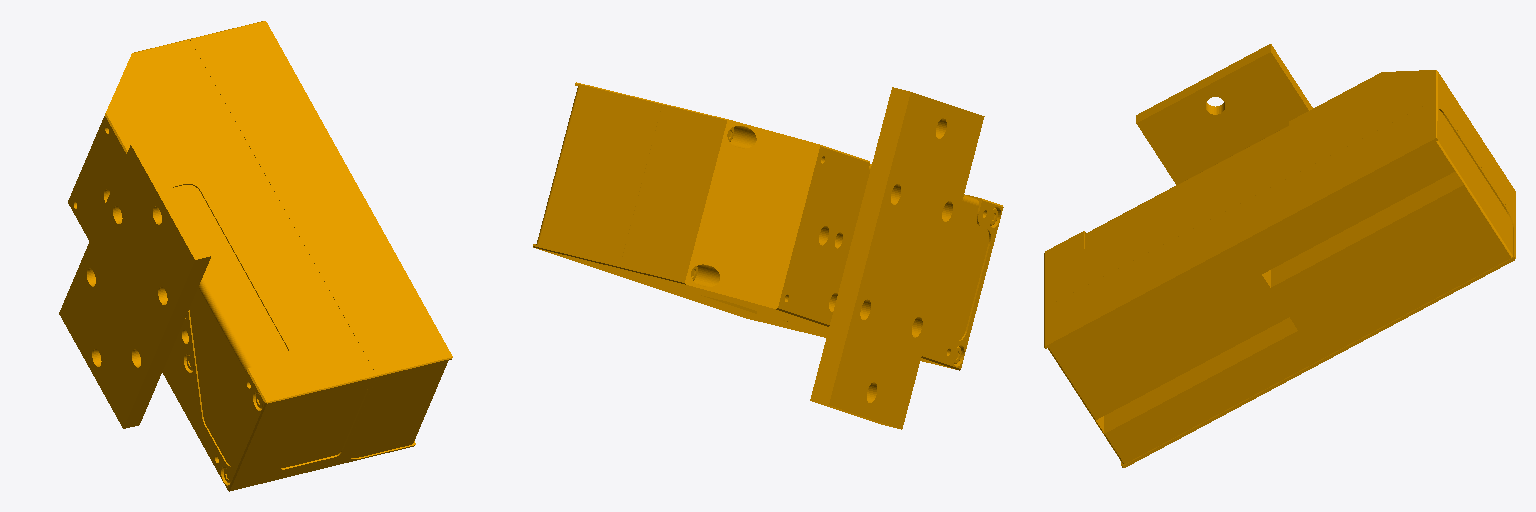
URDF robot description (IRB140):
<?xml version="1.0" ?>
<!-- =================================================================================== -->
<!-- |    This document was autogenerated by xacro from irb_140_ati_schunk_gelsight_less_collision.urdf.xacro | -->
<!-- |    EDITING THIS FILE BY HAND IS NOT RECOMMENDED                                 | -->
<!-- =================================================================================== -->
<robot name="IRB140" xmlns:xacro="http://www.ros.org/wiki/xacro">
  <link name="base_link">
    <inertial>
      <origin rpy="-1.57079 0 0" xyz="-0.0820393251688425 -0.0599247343482246 0.000402028640224033"/>
      <mass value="12.409016159487"/>
      <inertia ixx="0.104502176006253" ixy="0.00734284655670482" ixz="1.00520827530156E-05" iyy="0.246486764065977" iyz="0.000843006810157312" izz="0.16727784258504"/>
    </inertial>
    <visual>
      <origin rpy="-1.57079 0 0" xyz="0 0 0"/>
      <geometry>
        <mesh filename="package://IRB140/urdf/meshes/base_link.stl"/>
      </geometry>
      <material name="">
        <color rgba="0.890196078431373 0.411764705882353 0.125490196078431 1"/>
      </material>
    </visual>
    <collision>
      <origin rpy="-1.57079 0 0" xyz="0 0 0"/>
      <geometry>
        <mesh filename="package://IRB140/urdf/meshes/base_link_chull.stl"/>
      </geometry>
    </collision>
  </link>
  <collision_filter_group name="base">
    <member link="base_link"/>
  </collision_filter_group>
  <collision_filter_group name="ignore_base">
    <member link="link_1"/>
  </collision_filter_group>
  <link name="link_1">
    <inertial>
      <origin rpy="0 0 0" xyz="0.0281052735195531 -0.263404021764231 0.0438145912936454"/>
      <mass value="16.287755696602"/>
      <inertia ixx="0.239763088891016" ixy="-0.0247090810274521" ixz="0.000698689923332581" iyy="0.215279593840589" iyz="-0.0324602456686847" izz="0.21738294278782"/>
    </inertial>
    <visual>
      <origin rpy="0 0 0" xyz="0 0.1095 0"/>
      <geometry>
        <mesh filename="package://IRB140/urdf/meshes/link1.stl"/>
      </geometry>
      <material name="">
        <color rgba="0.890196078431373 0.411764705882353 0.125490196078431 1"/>
      </material>
    </visual>
    <collision>
      <origin rpy="0 0 0" xyz="0 0.1095 0"/>
      <geometry>
        <mesh filename="package://IRB140/urdf/meshes/link1_chull.stl"/>
      </geometry>
    </collision>
  </link>
  <link name="link_2">
    <inertial>
      <origin rpy="0 0 0" xyz="0.0602722328661623 -0.550288012476887 -0.0924337165442594"/>
      <mass value="7.58037424484438"/>
      <inertia ixx="0.155736578403723" ixy="-0.0018292494088038" ixz="-0.000516100043145016" iyy="0.0449374006069967" iyz="0.0179772597993246" izz="0.131499062854069"/>
    </inertial>
    <visual>
      <origin rpy="0 0 0" xyz="-0.07 0.352 0"/>
      <geometry>
        <mesh filename="package://IRB140/urdf/meshes/link2.stl"/>
      </geometry>
      <material name="">
        <color rgba="0.890196078431373 0.411764705882353 0.125490196078431 1"/>
      </material>
    </visual>
    <collision>
      <origin rpy="0 0 0" xyz="-0.07 0.352 0"/>
      <geometry>
        <mesh filename="package://IRB140/urdf/meshes/link2_chull.stl"/>
      </geometry>
    </collision>
  </link>
  <link name="link_3">
    <inertial>
      <origin rpy="0 0 0" xyz="0.0895840773879386 -0.706321963929838 0.00750781548417993"/>
      <mass value="8.03072730997701"/>
      <inertia ixx="0.0322819185861096" ixy="0.00189304098071818" ixz="-0.00301812650515099" iyy="0.0862439596837411" iyz="0.000363121583074651" izz="0.0941344479457789"/>
    </inertial>
    <visual>
      <origin rpy="0 0 0" xyz="-0.07 0.712 0"/>
      <geometry>
        <mesh filename="package://IRB140/urdf/meshes/link3.stl"/>
      </geometry>
      <material name="">
        <color rgba="0.890196078431373 0.411764705882353 0.125490196078431 1"/>
      </material>
    </visual>
    <collision>
      <origin rpy="0 0 0" xyz="-0.07  0.712 0"/>
      <geometry>
        <mesh filename="package://IRB140/urdf/meshes/link3_chull.stl"/>
      </geometry>
    </collision>
  </link>
  <link name="link_4">
    <inertial>
      <origin rpy="0 0 0" xyz="0.381567778909365 -0.710566670346653 -0.0012125731023236"/>
      <mass value="1.7702548022269"/>
      <inertia ixx="0.00345886724545012" ixy="-5.89845314013543E-05" ixz="-0.000204665310780048" iyy="0.00814796317500158" iyz="3.05102860299544E-06" izz="0.00727417938725734"/>
    </inertial>
    <visual>
      <origin rpy="0 0 0" xyz="-0.2885 0.712 0"/>
      <geometry>
        <mesh filename="package://IRB140/urdf/meshes/link4.stl"/>
      </geometry>
      <material name="">
        <color rgba="0.890196078431373 0.411764705882353 0.125490196078431 1"/>
      </material>
    </visual>
    <collision>
      <origin rpy="0 0 0" xyz="-0.2885 0.712 0"/>
      <geometry>
        <mesh filename="package://IRB140/urdf/meshes/link4_chull.stl"/>
      </geometry>
    </collision>
  </link>
  <link name="link_5">
    <inertial>
      <origin rpy="0 0 0" xyz="0.4486171436144 -0.711838316531129 0.000617034654940496"/>
      <mass value="0.145550520315438"/>
      <inertia ixx="7.1482542749252E-05" ixy="4.08865519403599E-07" ixz="1.24002244883737E-07" iyy="6.88353185385481E-05" iyz="-1.00702333671187E-08" izz="0.000112132445217078"/>
    </inertial>
    <visual>
      <origin rpy="0 0 0" xyz="-0.450 0.712 0"/>
      <geometry>
        <mesh filename="package://IRB140/urdf/meshes/link5.stl"/>
      </geometry>
      <material name="">
        <color rgba="0.890196078431373 0.411764705882353 0.125490196078431 1"/>
      </material>
    </visual>
    <collision>
      <origin rpy="0 0 0" xyz="-0.450 0.712 0"/>
      <geometry>
        <mesh filename="package://IRB140/urdf/meshes/link5_chull.stl"/>
      </geometry>
    </collision>
  </link>
  <link name="link_6">
    <inertial>
      <origin rpy="0 0 0" xyz="0.502059432845099 -0.711774967143511 2.38785136319277E-10"/>
      <mass value="0.0258654328719498"/>
      <inertia ixx="5.9822143548355E-06" ixy="4.58244484401765E-08" ixz="-3.33091906738059E-13" iyy="6.2921914507958E-06" iyz="6.75626369217644E-13" izz="6.17479327327778E-06"/>
    </inertial>
    <visual>
      <origin rpy="0 0 0" xyz="-0.515 0.712 0"/>
      <geometry>
        <mesh filename="package://IRB140/urdf/meshes/link6.stl"/>
      </geometry>
      <material name="">
        <color rgba="0.796078431372549 0.823529411764706 0.937254901960784 1"/>
      </material>
    </visual>
    <collision>
      <origin rpy="0 0 0" xyz="-0.515 0.712 0"/>
      <geometry>
        <mesh filename="package://IRB140/urdf/meshes/link6_chull.stl"/>
      </geometry>
    </collision>
  </link>
  <joint name="joint1" type="revolute">
    <parent link="base_link"/>
    <child link="link_1"/>
    <limit effort="300" lower="-3.14159265359" upper="3.14159265359" velocity="4.36"/>
    <axis xyz="0 -1 0"/>
    <origin rpy="-1.57079 0 0" xyz="0 0 0.1095"/>
  </joint>
  <joint name="joint2" type="revolute">
    <parent link="link_1"/>
    <child link="link_2"/>
    <limit effort="300" lower="-1.57079633" upper="1.91986218" velocity="4.36"/>
    <axis xyz="0 0 1"/>
    <origin rpy="0 0 0" xyz="0.07 -0.2425 0"/>
  </joint>
  <joint name="joint3" type="revolute">
    <parent link="link_2"/>
    <child link="link_3"/>
    <limit effort="300" lower="-4.01425728" upper="0.87266463" velocity="4.36"/>
    <axis xyz="0 0 1"/>
    <origin rpy="0 0 0" xyz="0 -0.360 0"/>
  </joint>
  <joint name="joint4" type="revolute">
    <parent link="link_3"/>
    <child link="link_4"/>
    <limit effort="300" lower="-3.49065850" upper="3.49065850" velocity="5.58"/>
    <axis xyz="1 0 0"/>
    <origin rpy="0 0 0" xyz="0.2185 0 0"/>
  </joint>
  <joint name="joint5" type="revolute">
    <parent link="link_4"/>
    <child link="link_5"/>
    <limit effort="300" lower="-2.09439510" upper="2.09439510" velocity="5.58"/>
    <axis xyz="0 0 1"/>
    <origin rpy="0 0 0" xyz="0.1615 0 0"/>
  </joint>
  <joint name="joint6" type="revolute">
    <parent link="link_5"/>
    <child link="link_6"/>
    <limit effort="300" lower="-6.98131701" upper="6.98131701" velocity="7.33"/>
    <axis xyz="1 0 0"/>
    <origin rpy="0 0 0" xyz="0.065 0 0"/>
  </joint>
  <transmission name="joint1_trans" type="SimpleTransmission">
    <joint name="joint1"/>
    <actuator name="joint1_motor"/>
    <mechanicalReduction>1</mechanicalReduction>
  </transmission>
  <transmission name="joint2_trans" type="SimpleTransmission">
    <joint name="joint2"/>
    <actuator name="joint2_motor"/>
    <mechanicalReduction>1</mechanicalReduction>
  </transmission>
  <transmission name="joint3_trans" type="SimpleTransmission">
    <joint name="joint3"/>
    <actuator name="joint3_motor"/>
    <mechanicalReduction>1</mechanicalReduction>
  </transmission>
  <transmission name="joint4_trans" type="SimpleTransmission">
    <joint name="joint4"/>
    <actuator name="joint4_motor"/>
    <mechanicalReduction>1</mechanicalReduction>
  </transmission>
  <transmission name="joint5_trans" type="SimpleTransmission">
    <joint name="joint5"/>
    <actuator name="joint5_motor"/>
    <mechanicalReduction>1</mechanicalReduction>
  </transmission>
  <transmission name="joint6_trans" type="SimpleTransmission">
    <joint name="joint6"/>
    <actuator name="joint6_motor"/>
    <mechanicalReduction>1</mechanicalReduction>
  </transmission>
  <link name="ATI_sensor">
    <inertial>
      <origin rpy="0 0 0" xyz="-0.0064062 0.01873 0.011887"/>
      <mass value="0.68252"/>
      <inertia ixx="0.000615295062479599" ixy="-0.000155498855912512" ixz="4.23692762827157E-06" iyy="8.42227283334224E-06" iyz="-0.000848389613222753" izz="-8.42227283334216E-06"/>
    </inertial>
    <visual>
      <origin rpy="1.5707963267949 0 0" xyz="0 0 0"/>
      <geometry>
        <mesh filename="package://IRB140/urdf/meshes/ATI_sensor.stl"/>
      </geometry>
      <material name="">
        <color rgba="0.75294 0.75294 0.75294 1"/>
      </material>
    </visual>
    <collision>
      <origin rpy="1.5707963267949 0 0" xyz="0 0 0"/>
      <geometry>
        <mesh filename="package://IRB140/urdf/meshes/ATI_sensor_chull.stl"/>
      </geometry>
    </collision>
  </link>
  <joint name="ati_joint" type="fixed">
    <origin rpy="0.0 -2.61 -1.57079" xyz="0.00953 0 0"/>
    <parent link="link_6"/>
    <child link="ATI_sensor"/>
  </joint>
  <!-- MATERIALS -->
  <material name="Blue">
    <color rgba="0 0 1 1"/>
  </material>
  <material name="Red">
    <color rgba="1 0 0 1"/>
  </material>
  <material name="Green">
    <color rgba="0 1 0 1"/>
  </material>
  <material name="Yellow">
    <color rgba="1 1 0 1"/>
  </material>
  <material name="LightGrey">
    <color rgba="0.6 0.6 0.6 1.0"/>
  </material>
  <!-- END OF MATERIALS -->
  <!-- XACRO MACROS FOR VISUALS AND COLLISIONS -->
  <!-- END OF XACRO MACROS -->
  <link name="palm">
    <inertial>
      <origin rpy="0 0 0" xyz="0 0 0"/>
      <mass value="1"/>
      <inertia ixx="0.01" ixy="0" ixz="0" iyy="0.01" iyz="0" izz="0.01"/>
    </inertial>
    <visual>
      <geometry>
        <mesh filename="package://schunk_description/meshes/wsg_50/palm.stl"/>
      </geometry>
    </visual>
    <!-- The gripper itself -->
    <collision>
      <geometry>
        <box size="0.1453 0.0725 0.049"/>
      </geometry>
      <origin rpy="0 0 0" xyz="0.0 -0.0351 0.0"/>
    </collision>
    <!-- the larger mounting plate -->
    <collision>
      <geometry>
        <box size="0.05 0.0064 0.095"/>
      </geometry>
      <origin rpy="0 0 0" xyz="0.0 0.007 0"/>
    </collision>
  </link>
  <joint name="wsg_50_finger_left_joint" type="prismatic">
    <origin rpy="0 1.5707 0" xyz="0 -0.0719 0"/>
    <parent link="palm"/>
    <child link="wsg_50_finger_left_link"/>
    <axis xyz="0 0 -1"/>
    <!--<limit effort="10" lower="-0.001" upper="0.109" velocity="1.0"/>-->
  </joint>
  <link name="wsg_50_finger_left_link">
    <inertial>
      <origin rpy="0 0 0" xyz="0 0 0"/>
      <mass value="1"/>
      <inertia ixx="0.01" ixy="0" ixz="0" iyy="0.01" iyz="0" izz="0.01"/>
    </inertial>
    <!-- <xacro:left_finger_simple_visual/> -->
  </link>
  <joint name="wsg_50_finger_right_joint" type="prismatic">
    <origin rpy="3.1415 -1.5707 0" xyz="0 -0.0719 0.0"/>
    <parent link="palm"/>
    <child link="wsg_50_finger_right_link"/>
    <axis xyz="0 0 1"/>
    <!--<limit effort="10" lower="-0.001" upper="0.109" velocity="1.0"/> -->
  </joint>
  <link name="wsg_50_finger_right_link">
    <inertial>
      <origin rpy="0 0 0" xyz="0 0 0"/>
      <mass value="1"/>
      <inertia ixx="0.01" ixy="0" ixz="0" iyy="0.01" iyz="0" izz="0.01"/>
    </inertial>
    <!-- no gelsight collision geometry -->
  </link>
  <!-- extensions -->
  <transmission name="wsg_50_finger_left_trans">
    <type>transmission_interface/SimpleTransmission</type>
    <joint name="wsg_50_finger_left_joint"/>
    <actuator name="wsg_50_finger_left_motor">
      <hardwareInterface>EffortJointInterface</hardwareInterface>
      <mechanicalReduction>1</mechanicalReduction>
    </actuator>
  </transmission>
  <transmission name="wsg_50_finger_right_trans">
    <type>transmission_interface/SimpleTransmission</type>
    <joint name="wsg_50_finger_right_joint"/>
    <actuator name="wsg_50_finger_right_motor">
      <hardwareInterface>EffortJointInterface</hardwareInterface>
      <mechanicalReduction>1</mechanicalReduction>
    </actuator>
  </transmission>
  <joint name="ati_joint" type="fixed">
    <origin rpy="3.1415 1.5707 0.0" xyz="0.0 0.073622 0.0"/>
    <parent link="ATI_sensor"/>
    <child link="palm"/>
  </joint>
</robot>

--- Facts derived from the render (not from the file) ---
The picture shows the robot from 3 angles, left to right: view 1: azimuth 30°, elevation 25°; view 2: azimuth 150°, elevation 25°; view 3: azimuth 270°, elevation 25°; orthographic projection.
Robot: IRB140 — 11 links, 10 joints (6 revolute, 2 prismatic, 2 fixed); root link base_link; default pose: all joints at 0.
Links seen in each view (by area): view 1: palm; view 2: palm; view 3: palm.
Link boxes in pixels (x1,y1,x2,y2): palm: (59, 21, 452, 491); palm: (533, 82, 1003, 429); palm: (1044, 44, 1515, 467).
Size in the robot's own frame: 0.0828 by 0.1508 by 0.1167 metres.
1 mesh visuals loaded from 9 distinct referenced files (1 binary STL); not drawn: 8 (reference not matched to a file when rendering).